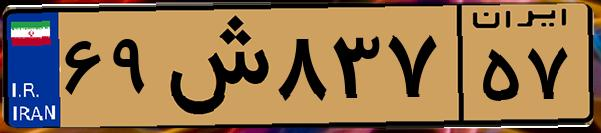3: (330, 28, 385, 110)
5: (475, 38, 525, 113)
6: (57, 26, 110, 100)
7: (385, 28, 445, 110), (525, 38, 570, 115)
8: (270, 28, 330, 110)
9: (110, 28, 158, 98)
ش: (158, 12, 270, 120)
